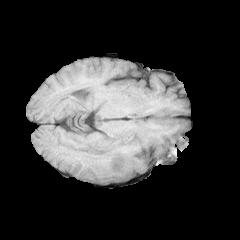glioma: (76, 135, 147, 183)
